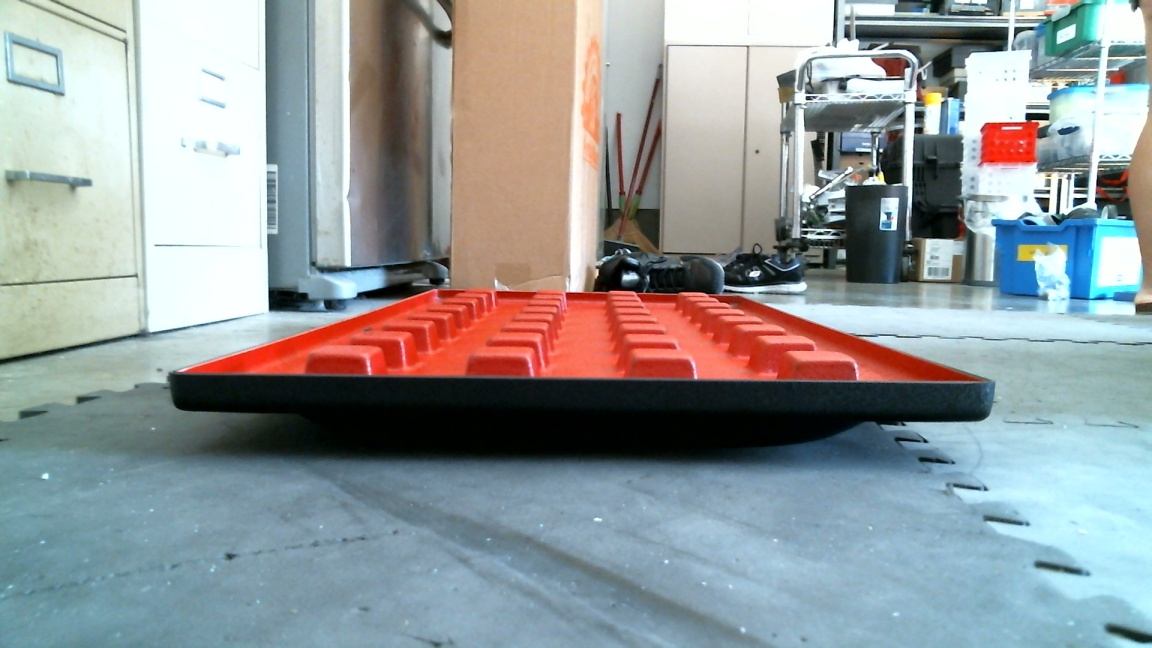red_foundation: (166, 288, 996, 446)
